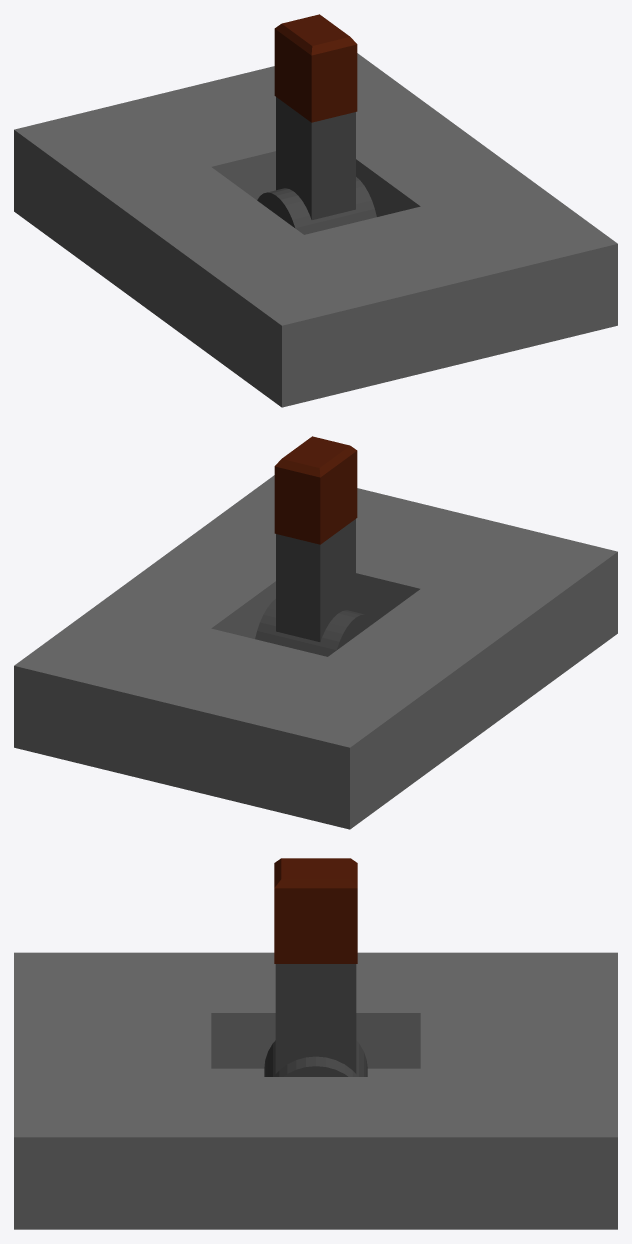
File: BrownSwitch.glb
3 renders of one model, top to bottom at view 1: azimuth 30°, elevation 25°; view 2: azimuth 150°, elevation 25°; view 3: azimuth 270°, elevation 25°, orthographic. The views are drawn at different scales.
Visible parts, largest first — view 1: Base, Switch, Cube; view 2: Base, Switch, Cube; view 3: Base, Switch, Cube.
Boxes of the visible parts, box(x1,y1,x2,y2) form: Base: box(14, 53, 617, 407); Switch: box(257, 97, 376, 234); Cube: box(274, 14, 357, 122); Base: box(14, 475, 617, 829); Switch: box(255, 519, 374, 656); Cube: box(274, 436, 357, 544); Base: box(14, 952, 617, 1229); Switch: box(264, 964, 367, 1076); Cube: box(274, 858, 357, 963).
Bounding box in the file's own units: 0.0463 × 0.0315 × 0.0639.
